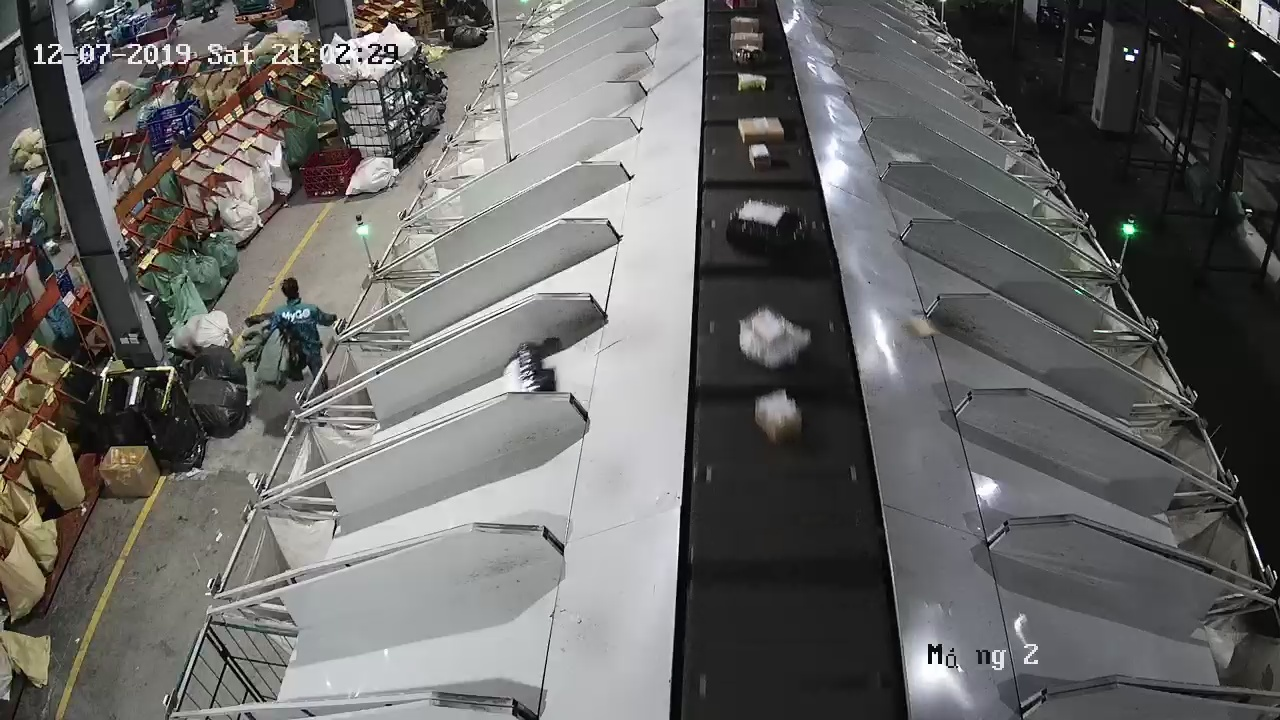parcel: (905, 314, 941, 341)
